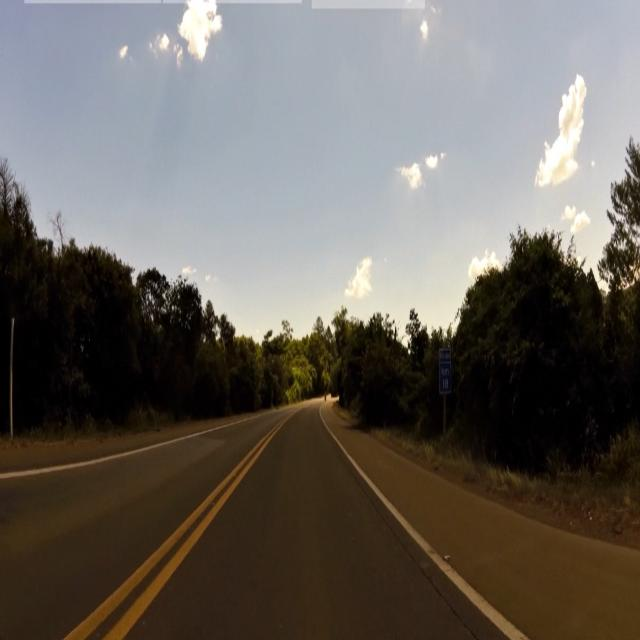RQ: (437, 345, 452, 396)
